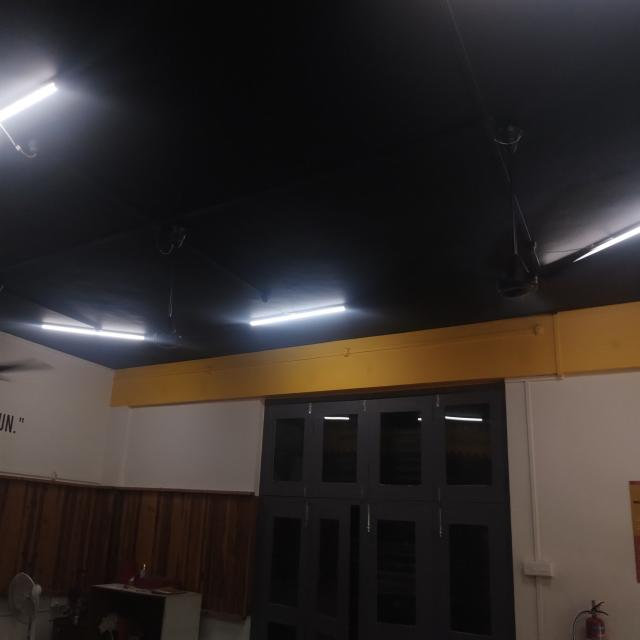tubelight_on: (562, 216, 640, 276), (0, 70, 69, 128), (244, 302, 350, 335), (39, 318, 149, 344), (442, 413, 487, 425), (411, 414, 422, 427), (324, 416, 350, 420)
